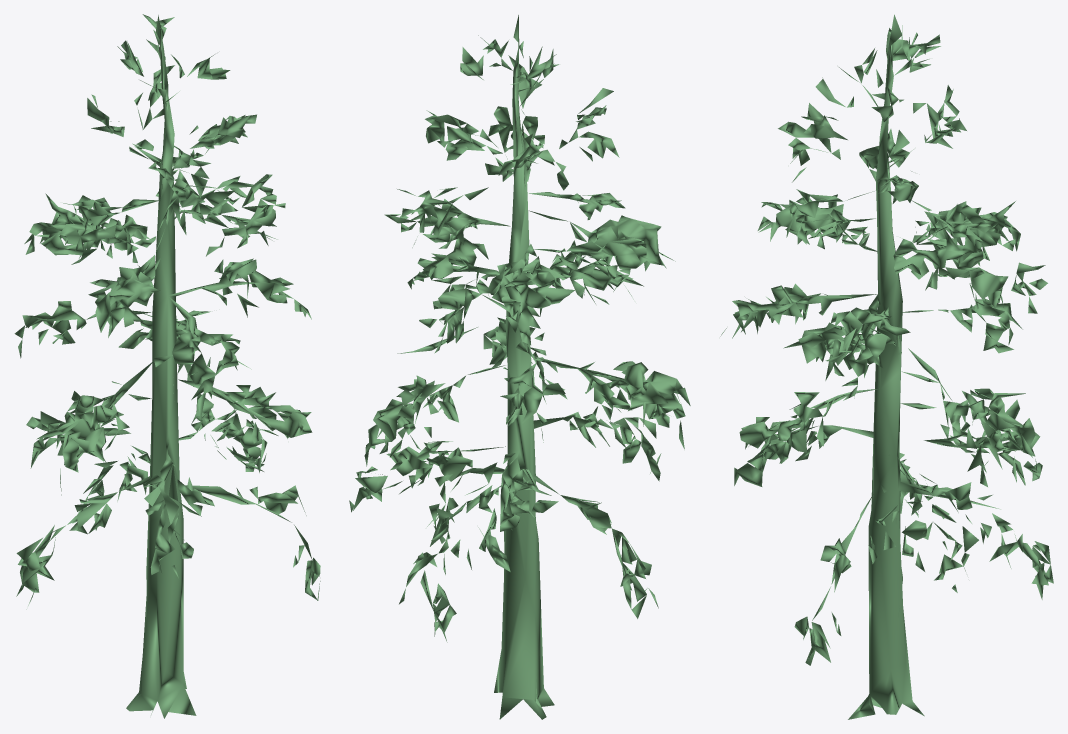
Rendered from pine_tree_silhouette.glb.
The picture shows the model from 3 angles, left to right: view 1: azimuth 30°, elevation 25°; view 2: azimuth 150°, elevation 25°; view 3: azimuth 270°, elevation 25°; orthographic projection.
Visible parts, largest first — view 1: Mesh_0; view 2: Mesh_0; view 3: Mesh_0.
Boxes of the visible parts, <box> form: Mesh_0: <box>14,14,320,718</box>; Mesh_0: <box>349,15,690,719</box>; Mesh_0: <box>720,14,1053,719</box>.
Bounding box in the file's own units: 0.7556 × 1.75 × 0.7573.
